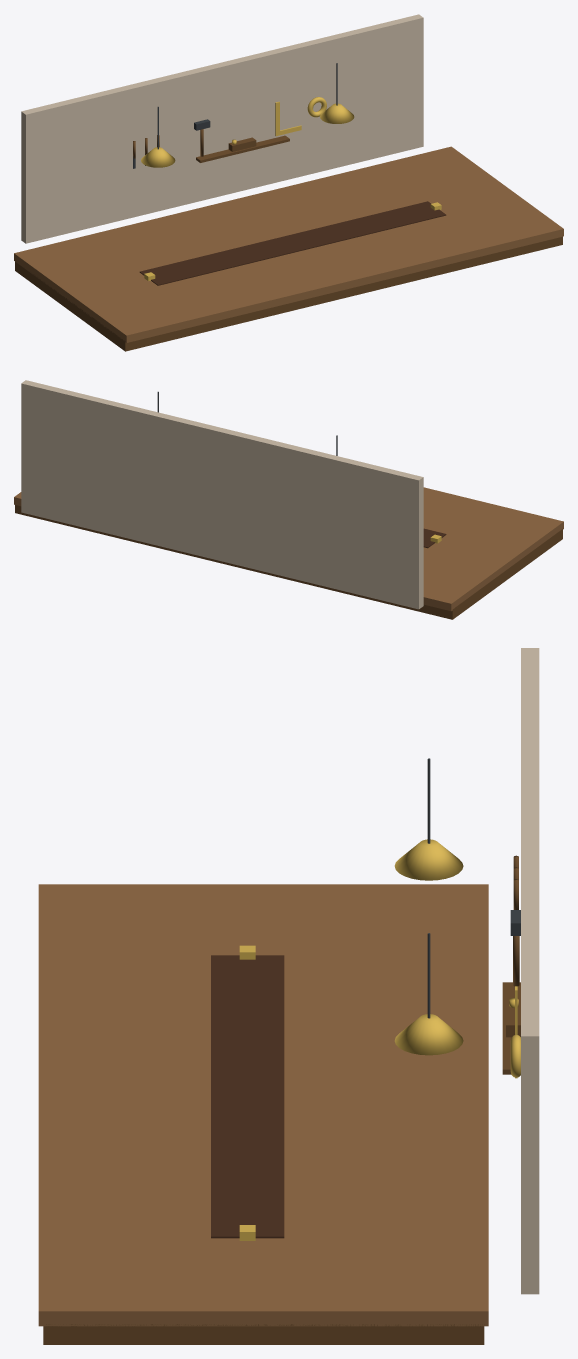
The model's file is build_workshop.glb.
The picture shows the model from 3 angles, top to bottom: view 1: azimuth 30°, elevation 25°; view 2: azimuth 150°, elevation 25°; view 3: azimuth 270°, elevation 25°; orthographic projection. The views are drawn at different scales.
Visible parts, largest first — view 1: ToolPegboard, WorkbenchTopSlab, PartsTrayTrough, Cube, Cube.003, Cone, Cone.001; view 2: ToolPegboard, WorkbenchTopSlab, Cube; view 3: WorkbenchTopSlab, PartsTrayTrough, ToolPegboard, Cube, Cone, Cone.001.
Part boxes in pixels (box(x1,y1,x2,y2)): ToolPegboard: box(21, 14, 423, 243); WorkbenchTopSlab: box(14, 146, 563, 342); PartsTrayTrough: box(139, 201, 446, 285); Cube: box(15, 236, 562, 351); Cube.003: box(196, 135, 289, 162); Cone: box(141, 147, 175, 167); Cone.001: box(320, 103, 354, 123); ToolPegboard: box(21, 380, 423, 609); WorkbenchTopSlab: box(14, 487, 563, 611); Cube: box(15, 505, 562, 619); WorkbenchTopSlab: box(38, 884, 488, 1326); PartsTrayTrough: box(211, 955, 284, 1238); ToolPegboard: box(521, 648, 539, 1294); Cube: box(43, 1324, 484, 1344); Cone: box(394, 839, 463, 880); Cone.001: box(394, 1014, 463, 1055).
Size of the model in its own units: 22 by 6.95 by 10.9.
